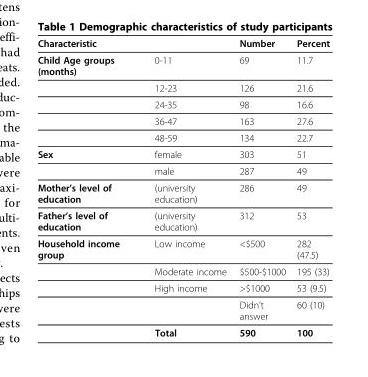table: (36, 37, 328, 337)
table column: (36, 37, 136, 337), (136, 37, 232, 337), (232, 37, 290, 337), (290, 37, 328, 337)
table column header: (36, 37, 328, 51)
table row: (36, 51, 328, 79), (36, 178, 328, 206), (36, 206, 328, 234), (36, 234, 328, 262), (36, 296, 328, 323), (36, 95, 328, 112), (36, 112, 328, 129), (36, 145, 328, 162), (36, 262, 328, 279), (36, 279, 328, 296), (36, 79, 328, 95), (36, 129, 328, 145), (36, 162, 328, 178), (36, 37, 328, 51), (36, 323, 328, 337)
table spanning cell: (36, 234, 136, 337), (36, 51, 136, 145), (36, 145, 136, 178)
